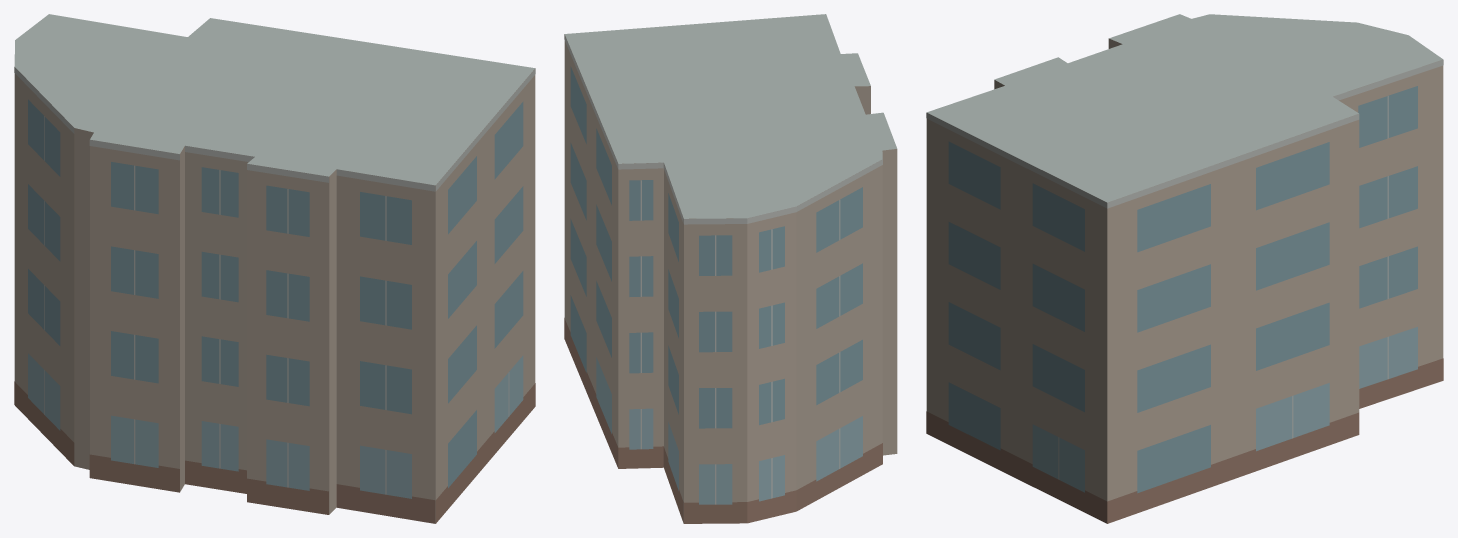
File: survey-upis-32740075.glb
3 renders of one model, left to right at view 1: azimuth 30°, elevation 25°; view 2: azimuth 150°, elevation 25°; view 3: azimuth 270°, elevation 25°, orthographic. The views are drawn at different scales.
Parts seen in each view (by area): view 1: survey-upis-32740075.tmp; view 2: survey-upis-32740075.tmp; view 3: survey-upis-32740075.tmp.
Part boxes in pixels (box(x1,y1,x2,y2)): survey-upis-32740075.tmp: box(14, 14, 535, 523); survey-upis-32740075.tmp: box(564, 14, 897, 523); survey-upis-32740075.tmp: box(926, 14, 1443, 523).
Size of the model in its own units: 16.51 by 13.1 by 19.12.
